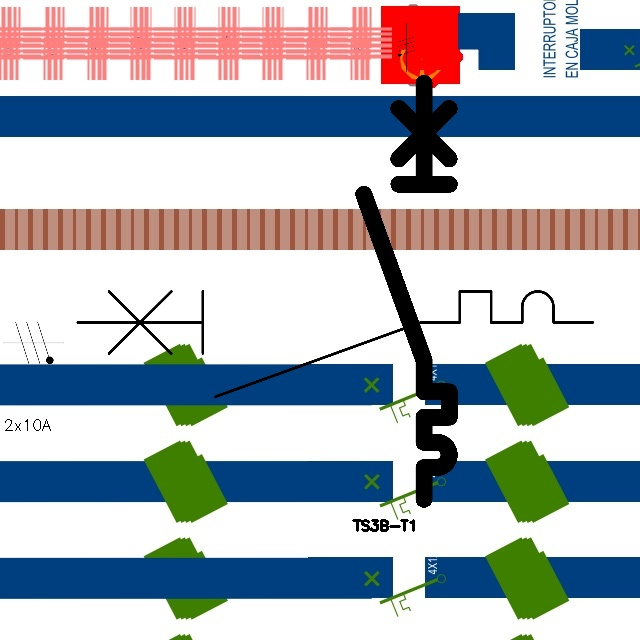interruptor_termomagnetico: (64, 278, 605, 410), (353, 72, 460, 510)
